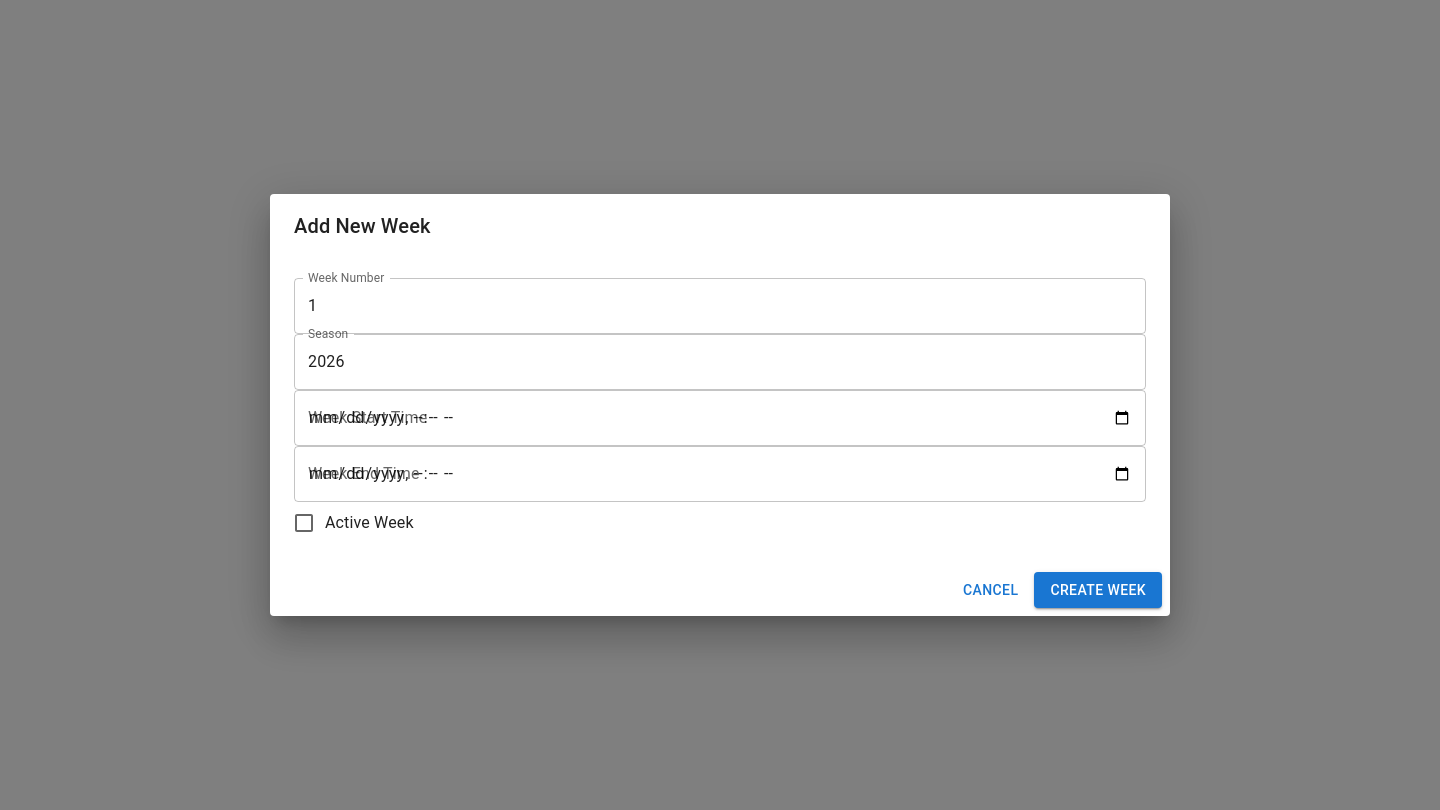
it: WeekForm › Add Week Form › validates required fields and shows errors
The image size is (1440, 810).
Click the button "Create Week": (1098, 590) [1034,572,1162,608]
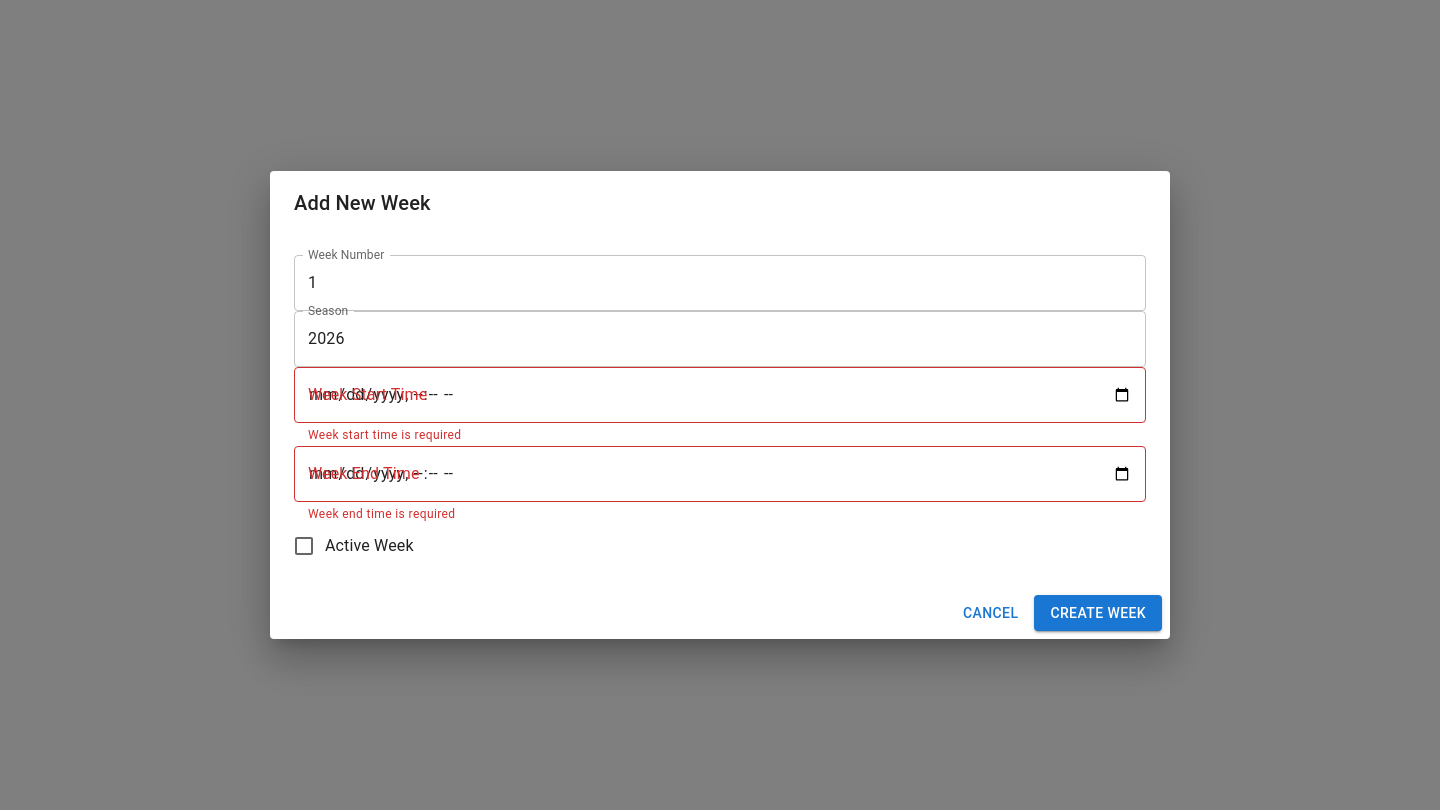
Expected: the text "Week start time is required" is shown, [308,428,462,442]
Expected: the text "Week end time is required" is shown, [308,507,456,521]
